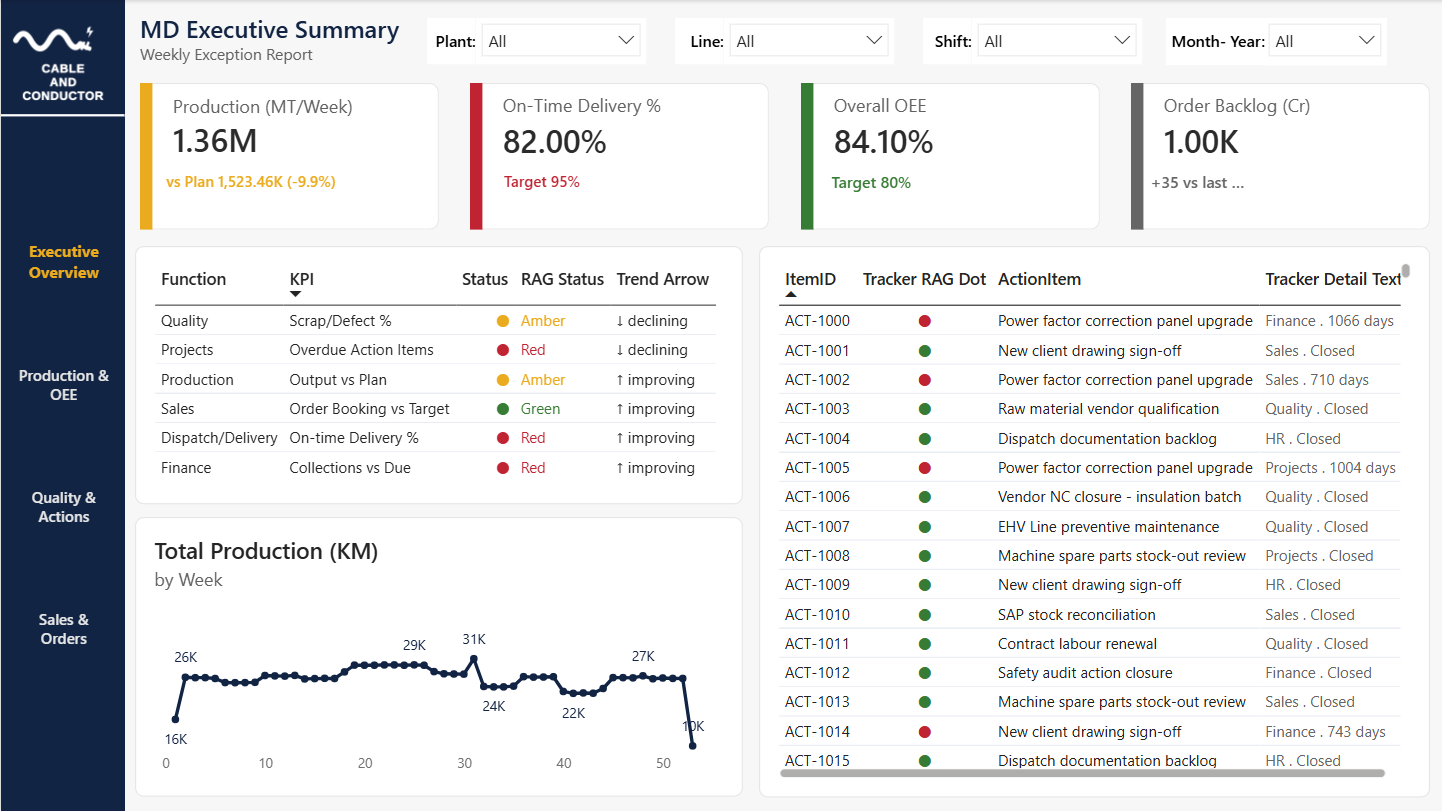

What the dashboard file says about the page in this screenshot:
{"tool":"powerbi","page":{"name":"Executive Overview","canvas":[1280,720],"ordinal":0},"visuals":[{"type":"image","box":[0,0,109.5,121.6],"z":0,"group":"g9"},{"type":"slicer","fields":{"Values":["Dim_Date.MonthYear"]},"box":[1119,16,110,41.7],"z":0,"group":"g8"},{"type":"slicer","fields":{"Values":["Dim_Line.PlantID"]},"box":[421.3,16.1,151.2,41.3],"z":0,"group":"g5"},{"type":"slicer","fields":{"Values":["Dim_Line.LineName"]},"box":[641,16.1,151.2,41.3],"z":0,"group":"g6"},{"type":"slicer","fields":{"Values":["Dim_Shift.ShiftName"]},"box":[861,16.3,151.2,41.3],"z":0,"group":"g7"},{"type":"textbox","box":[15.1,37.2,81.6,93.1],"z":0},{"type":"shape","box":[1033,16,87.8,41.7],"z":1000,"group":"g8"},{"type":"shape","box":[378,16.1,43.3,41.3],"z":1000,"group":"g5"},{"type":"shape","box":[597.7,16.1,43.3,41.3],"z":1000,"group":"g6"},{"type":"shape","box":[817.7,16.3,43.3,41.3],"z":1000,"group":"g7"},{"type":"shape","box":[0,73.3,109.5,57.3],"z":1000,"group":"g9"},{"type":"group","id":"g1","title":"Group 1","box":[123.3,73.6,265.1,130.3],"z":1000},{"type":"cardVisual","title":"Total Production","fields":{"Data":["Measures Table.Total Production (KM)"]},"box":[123.3,73.6,265,130],"z":2000,"group":"g1"},{"type":"group","id":"g2","title":"Group 2","box":[416.2,73.6,265.1,130.3],"z":2000},{"type":"cardVisual","title":"Total Production","fields":{"Data":["Measures Table.On-Time Delivery %"]},"box":[416.2,73.6,265,130],"z":2000,"group":"g2"},{"type":"cardVisual","title":"Total Production","fields":{"Data":["Measures Table.OEE %"]},"box":[709.1,73.6,265,130],"z":2000,"group":"g3"},{"type":"cardVisual","title":"Total Production","fields":{"Data":["Measures Table.Order Backlog (Cr)"]},"box":[1002,73.6,265,130],"z":2000,"group":"g4"},{"type":"group","id":"g3","title":"Group 2","box":[709.1,73.6,265.1,130.3],"z":3000},{"type":"group","id":"g4","title":"Group 2","box":[1002,73.6,265.1,130.3],"z":4000},{"type":"tableEx","fields":{"Values":["Function_KPI_Table.Function","Function_KPI_Table.KPI","Measures Table.RAG Dot","Measures Table.RAG Status","Measures Table.Trend Arrow"]},"box":[118.8,218.1,539.1,228.8],"z":5000},{"type":"shape","box":[123.3,73.6,11,130],"z":5002,"group":"g1"},{"type":"shape","box":[416.2,73.6,11,130],"z":5002,"group":"g2"},{"type":"shape","box":[709.1,73.6,11,130],"z":5002,"group":"g3"},{"type":"shape","box":[1002,73.6,11,130],"z":5002,"group":"g4"},{"type":"lineChart","title":"Total Production (KM)","fields":{"Y":["Measures Table.Total Production (KM)"],"Category":["Dim_Date.Week"]},"box":[118.8,458.4,539.1,248.3],"z":6000},{"type":"tableEx","fields":{"Values":["Fact_Tracker.ItemID","Measures Table.Tracker RAG Dot","Fact_Tracker.ActionItem","Measures Table.Tracker Detail Text"]},"box":[672.1,218.1,595,488.6],"z":7000},{"type":"shape","box":[0,0,110,720],"z":8000},{"type":"textbox","box":[123.3,10.6,277.5,73.6],"z":9000},{"type":"group","id":"g5","title":"Group 3","box":[378,16.1,194.5,41.3],"z":10000},{"type":"group","id":"g6","title":"Group 3","box":[597.7,16.1,194.5,41.3],"z":11000},{"type":"group","id":"g7","title":"Group 3","box":[817.7,16.3,195.1,41.8],"z":12000},{"type":"group","id":"g8","title":"Group 4","box":[1033,16,196,41.7],"z":13000},{"type":"pageNavigator","box":[3,188.6,106.7,414],"z":14000},{"type":"group","id":"g9","title":"Group 5","box":[0,0,109.5,130.6],"z":14001}]}

Visuals, with their boxes in screenshot pixels (x1, y1, x2, y2), scaled from the page's 1280x720 canvas onto the 1442x811 screenshot:
image: x1=0 y1=0 x2=123 y2=137
slicer - Dim_Date.MonthYear: x1=1261 y1=18 x2=1385 y2=65
slicer - Dim_Line.PlantID: x1=475 y1=18 x2=645 y2=65
slicer - Dim_Line.LineName: x1=722 y1=18 x2=892 y2=65
slicer - Dim_Shift.ShiftName: x1=970 y1=18 x2=1140 y2=65
textbox: x1=17 y1=42 x2=109 y2=147
shape: x1=1164 y1=18 x2=1263 y2=65
shape: x1=426 y1=18 x2=475 y2=65
shape: x1=673 y1=18 x2=722 y2=65
shape: x1=921 y1=18 x2=970 y2=65
shape: x1=0 y1=83 x2=123 y2=147
"Group 1" group: x1=139 y1=83 x2=438 y2=230
"Total Production" cardVisual: x1=139 y1=83 x2=437 y2=229
"Group 2" group: x1=469 y1=83 x2=768 y2=230
"Total Production" cardVisual: x1=469 y1=83 x2=767 y2=229
"Total Production" cardVisual: x1=799 y1=83 x2=1097 y2=229
"Total Production" cardVisual: x1=1129 y1=83 x2=1427 y2=229
"Group 2" group: x1=799 y1=83 x2=1097 y2=230
"Group 2" group: x1=1129 y1=83 x2=1427 y2=230
tableEx - Function_KPI_Table.Function x Function_KPI_Table.KPI: x1=134 y1=246 x2=741 y2=503
shape: x1=139 y1=83 x2=151 y2=229
shape: x1=469 y1=83 x2=481 y2=229
shape: x1=799 y1=83 x2=811 y2=229
shape: x1=1129 y1=83 x2=1141 y2=229
"Total Production (KM)" lineChart: x1=134 y1=516 x2=741 y2=796
tableEx - Fact_Tracker.ItemID x Measures Table.Tracker RAG Dot: x1=757 y1=246 x2=1427 y2=796
shape: x1=0 y1=0 x2=124 y2=810
textbox: x1=139 y1=12 x2=452 y2=95
"Group 3" group: x1=426 y1=18 x2=645 y2=65
"Group 3" group: x1=673 y1=18 x2=892 y2=65
"Group 3" group: x1=921 y1=18 x2=1141 y2=65
"Group 4" group: x1=1164 y1=18 x2=1385 y2=65
pageNavigator: x1=3 y1=212 x2=124 y2=679
"Group 5" group: x1=0 y1=0 x2=123 y2=147
